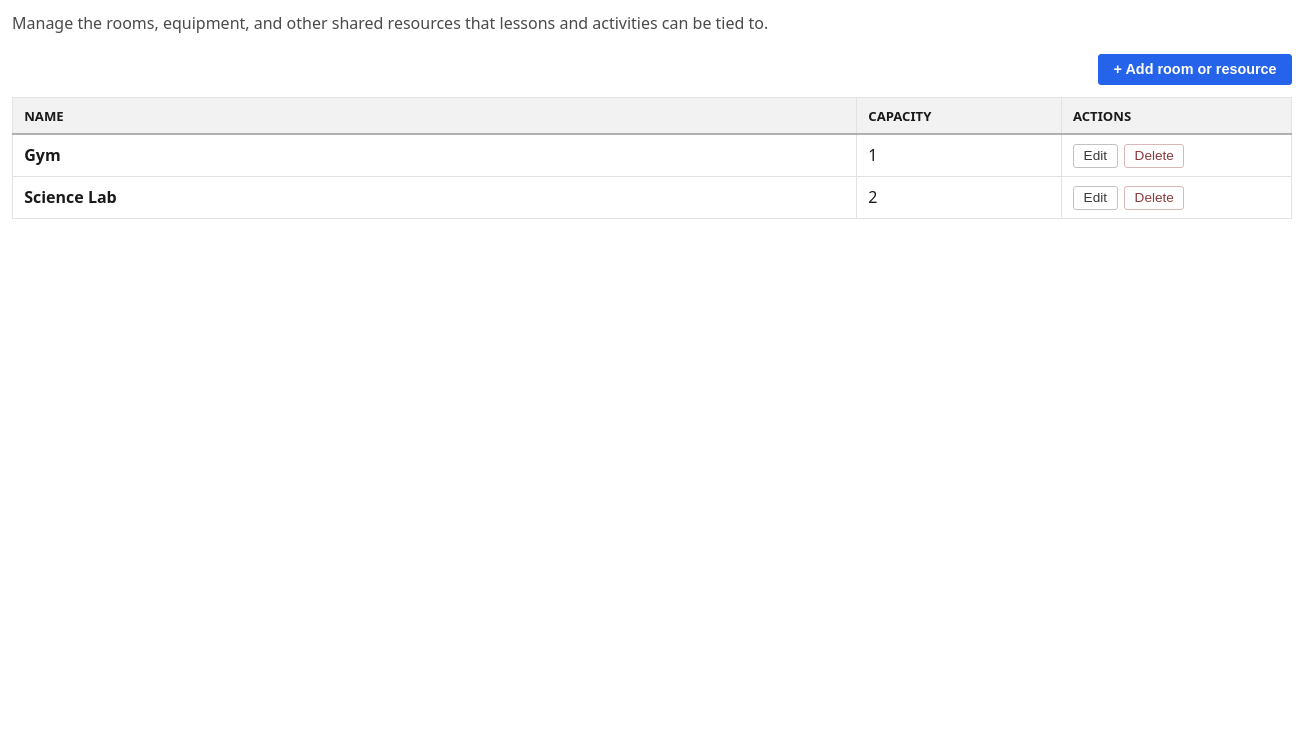
Test: RoomsResourcesPanel › shows a readable message when backend validation rejects the request
Expected: the column heading "Gym" is shown, [12, 134, 857, 177]
Click the button "+ Add room or resource": (1195, 69) [1098, 54, 1292, 85]
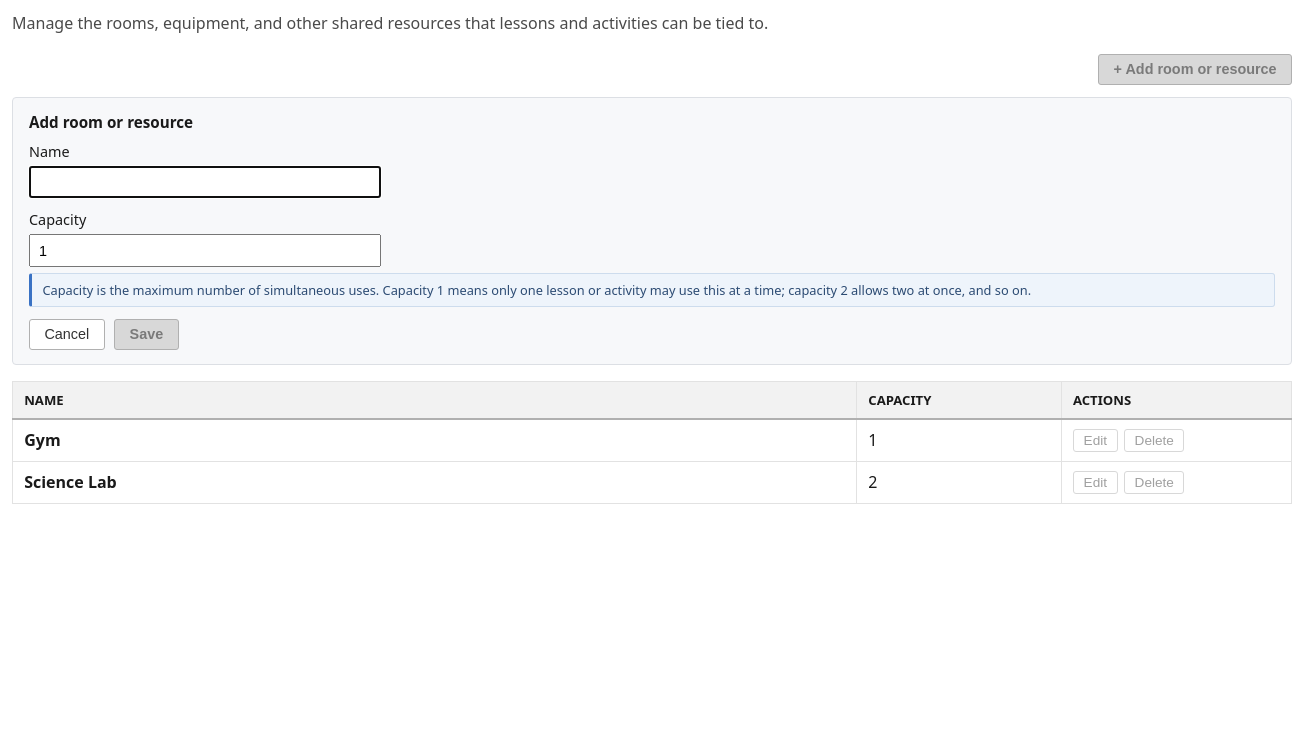
In the field labelled "Name": (205, 182) [29, 166, 381, 198], type "Music Room"
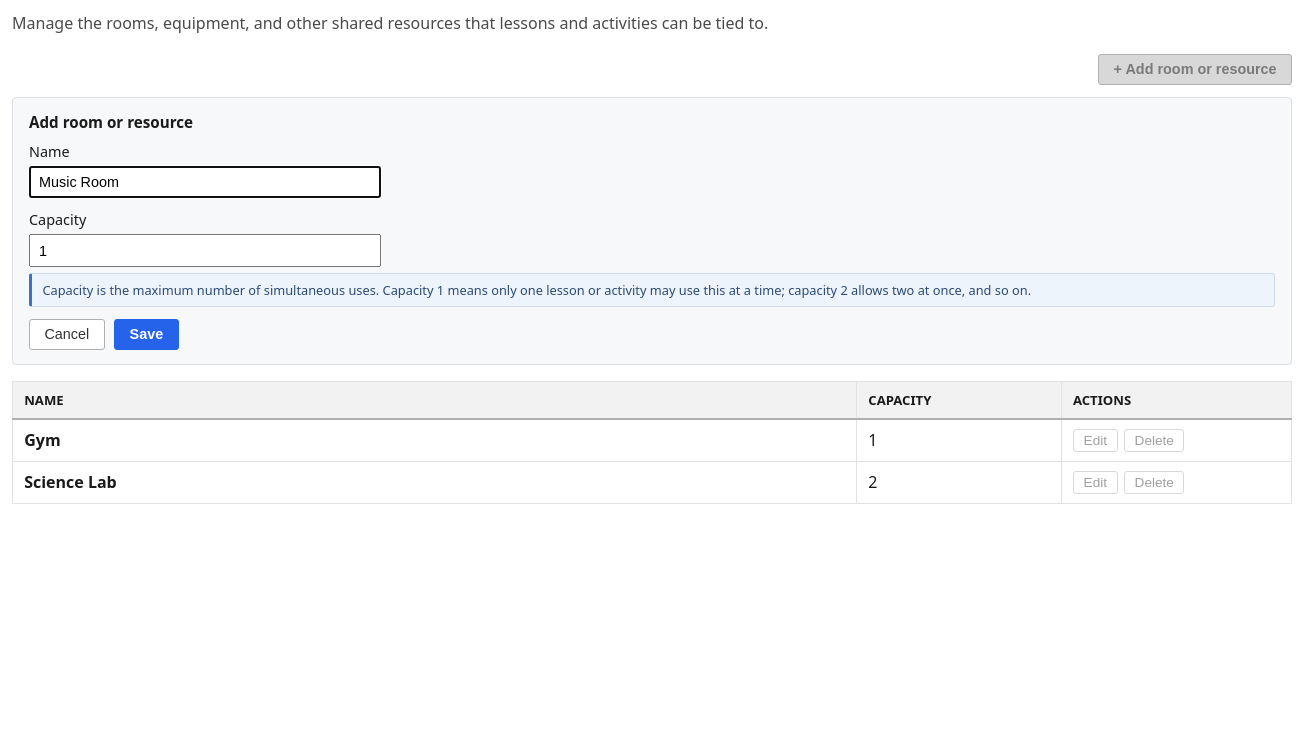
Click the button "Save": (146, 334) [114, 319, 179, 350]
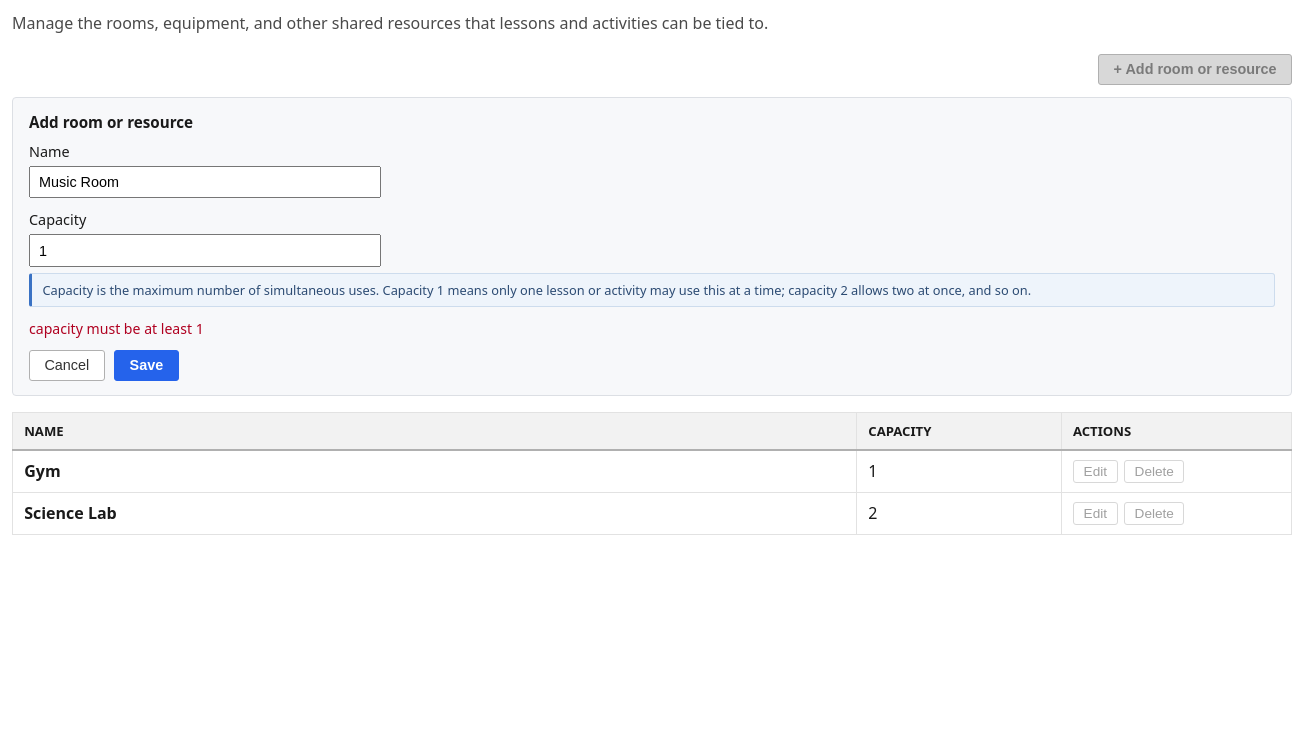
Expected: the text "capacity must be at least 1" is shown, [29, 319, 204, 338]
